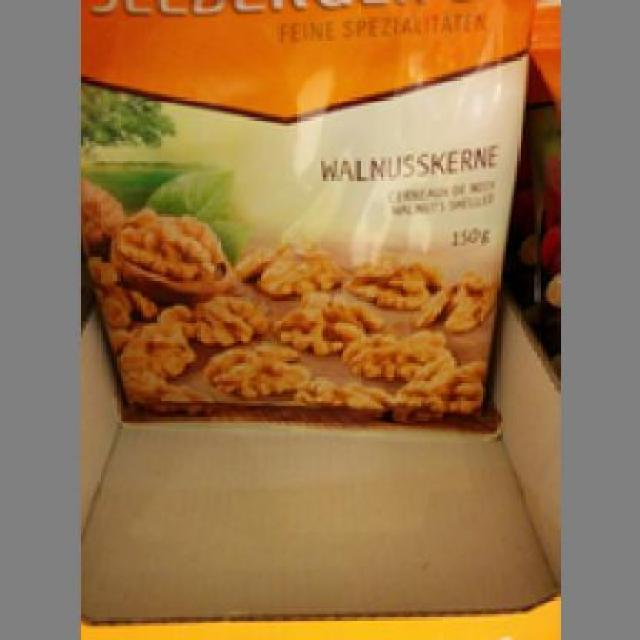Nuts: (76, 0, 532, 435)
